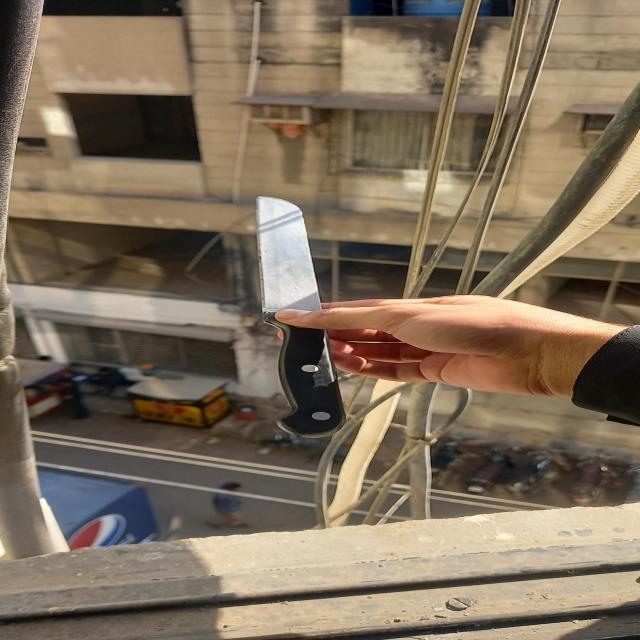Knife: (256, 196, 351, 438)
Person: (272, 292, 640, 424)
